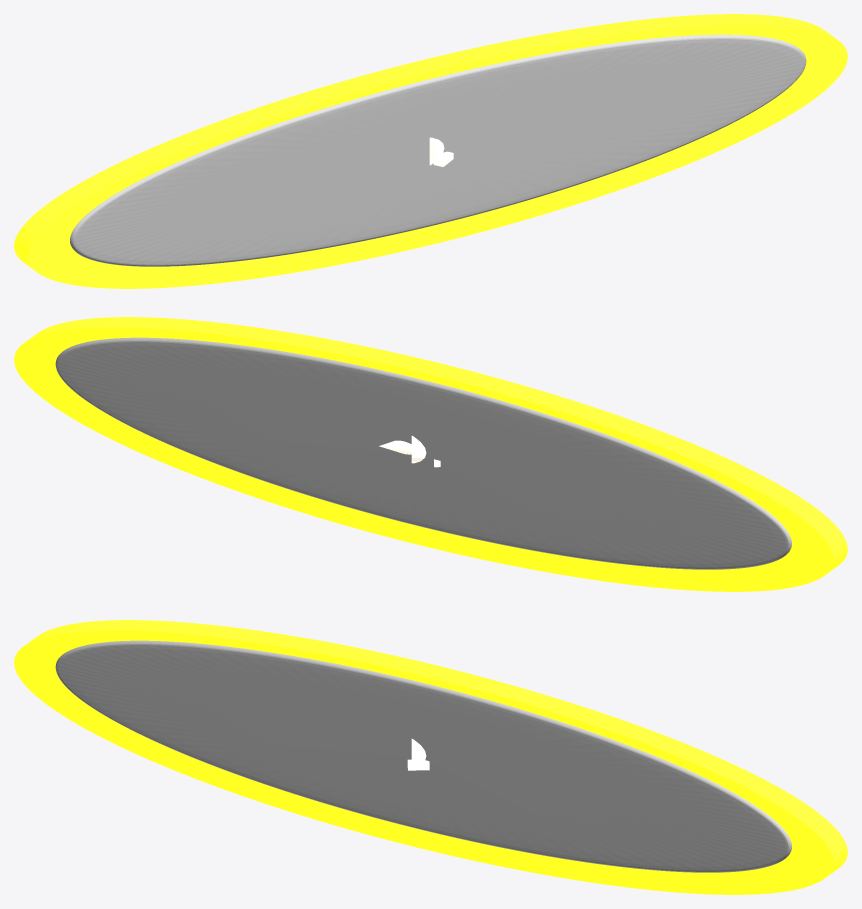
The model's file is TapToLaunchButton.fbx.
3 renders of one model, top to bottom at view 1: azimuth 30°, elevation 25°; view 2: azimuth 150°, elevation 25°; view 3: azimuth 330°, elevation 25°, orthographic.
Visible parts, largest first — view 1: ButtonBody, ButtonGlowRing; view 2: ButtonBody, ButtonGlowRing, RocketIcon; view 3: ButtonBody, ButtonGlowRing.
Boxes of the visible parts, left/top/right/bottom form: ButtonBody: left=70, top=34, right=806, bottom=266; ButtonGlowRing: left=14, top=14, right=847, bottom=288; ButtonBody: left=55, top=337, right=791, bottom=569; ButtonGlowRing: left=14, top=317, right=847, bottom=591; RocketIcon: left=379, top=436, right=440, bottom=467; ButtonBody: left=55, top=640, right=791, bottom=872; ButtonGlowRing: left=14, top=620, right=847, bottom=894.
Size of the model in its own units: 5.78 by 1.17 by 0.3852.
